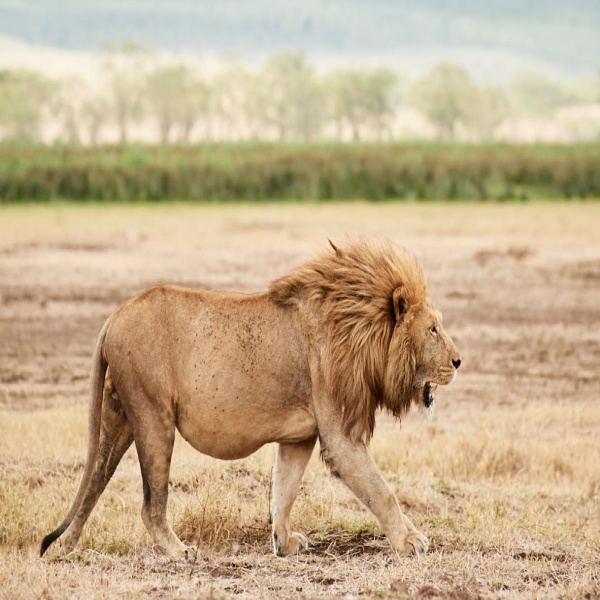Lion: (39, 236, 466, 565)
